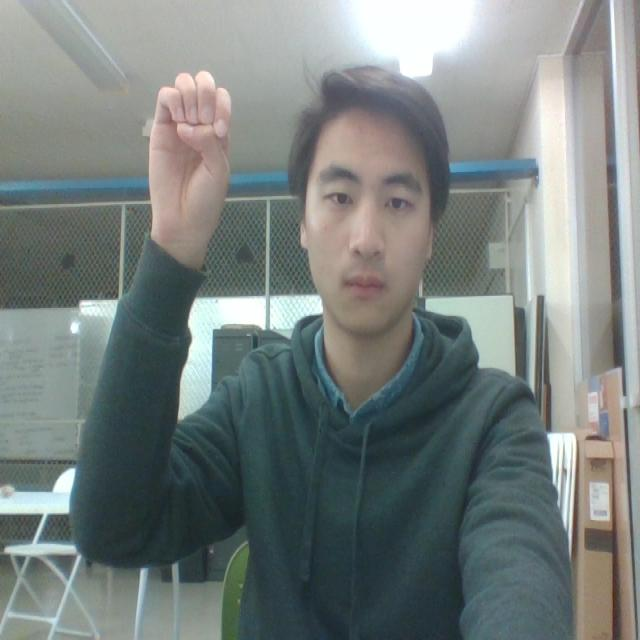E: (134, 39, 256, 296)
